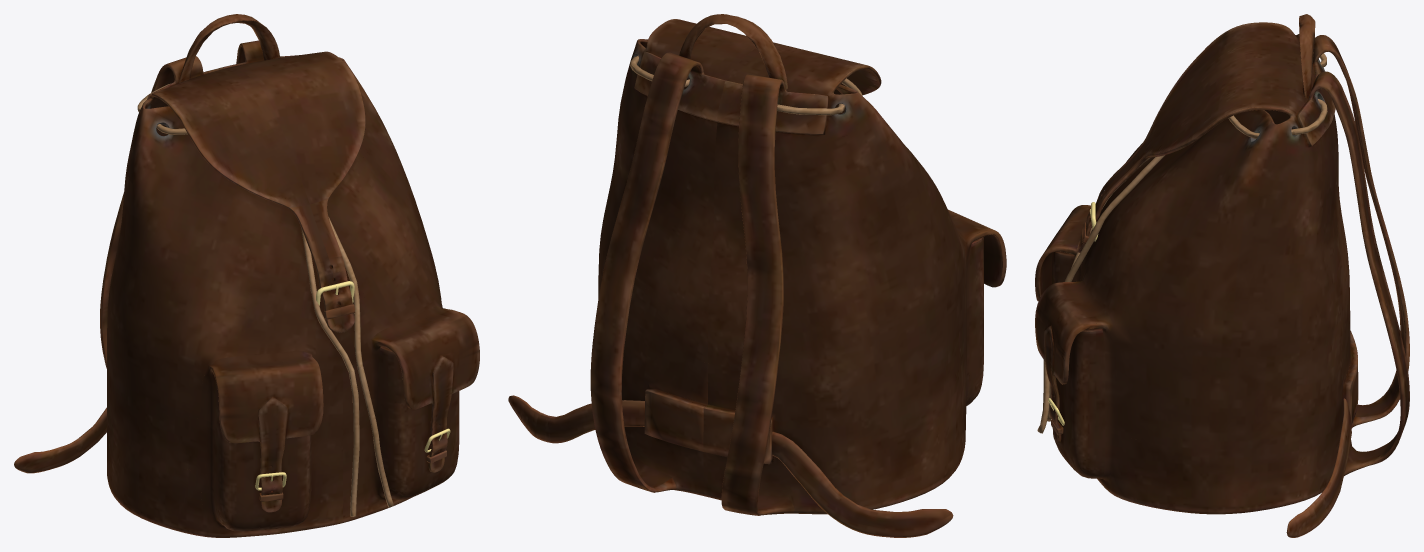
Rendered from backpack-leather.glb.
3 renders of one model, left to right at view 1: azimuth 30°, elevation 25°; view 2: azimuth 150°, elevation 25°; view 3: azimuth 270°, elevation 25°, orthographic. The views are drawn at different scales.
Parts seen in each view (by area): view 1: Object_0; view 2: Object_0; view 3: Object_0.
Part boxes in pixels (<box>): Object_0: <box>14,14,479,537</box>; Object_0: <box>508,14,1006,537</box>; Object_0: <box>1035,14,1409,537</box>.
Bounding box in the file's own units: 0.4661 × 0.45 × 0.3593.
1 material, 1 textured.
